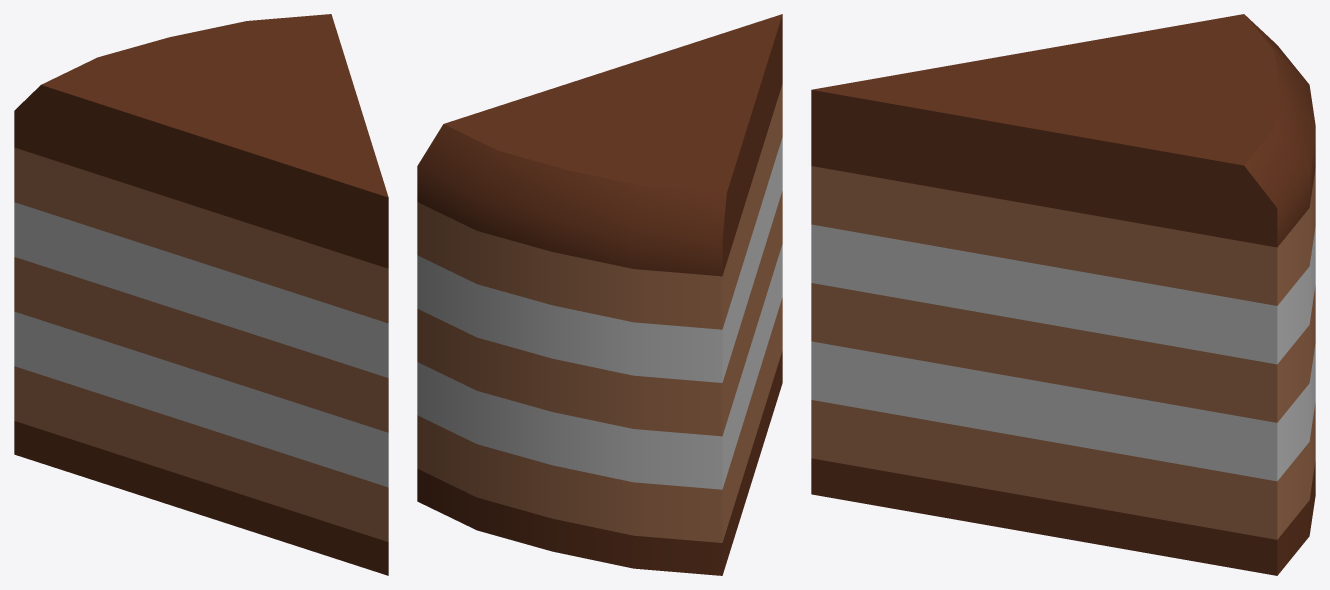
Rendered from CakeSlice_01.fbx.
3 views of the same model, side by side, from view 1: azimuth 30°, elevation 25°; view 2: azimuth 150°, elevation 25°; view 3: azimuth 270°, elevation 25° (orthographic). The views are drawn at different scales.
Parts seen in each view (by area): view 1: CakeSlice_01; view 2: CakeSlice_01; view 3: CakeSlice_01.
Part boxes in pixels (x1,y1,x2,y2): CakeSlice_01: (14,14,388,575); CakeSlice_01: (417,14,782,575); CakeSlice_01: (811,14,1315,575).
Size of the model in its own units: 0.087 by 0.1006 by 0.1137.
